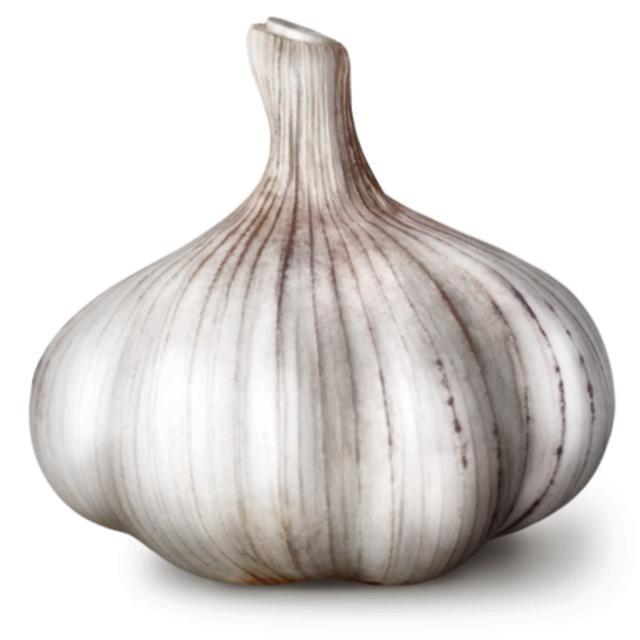garlic: (30, 20, 614, 584)
